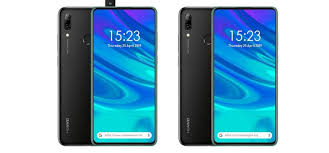huawei: (90, 5, 157, 147), (210, 5, 277, 147), (178, 5, 210, 147), (57, 5, 89, 147)
